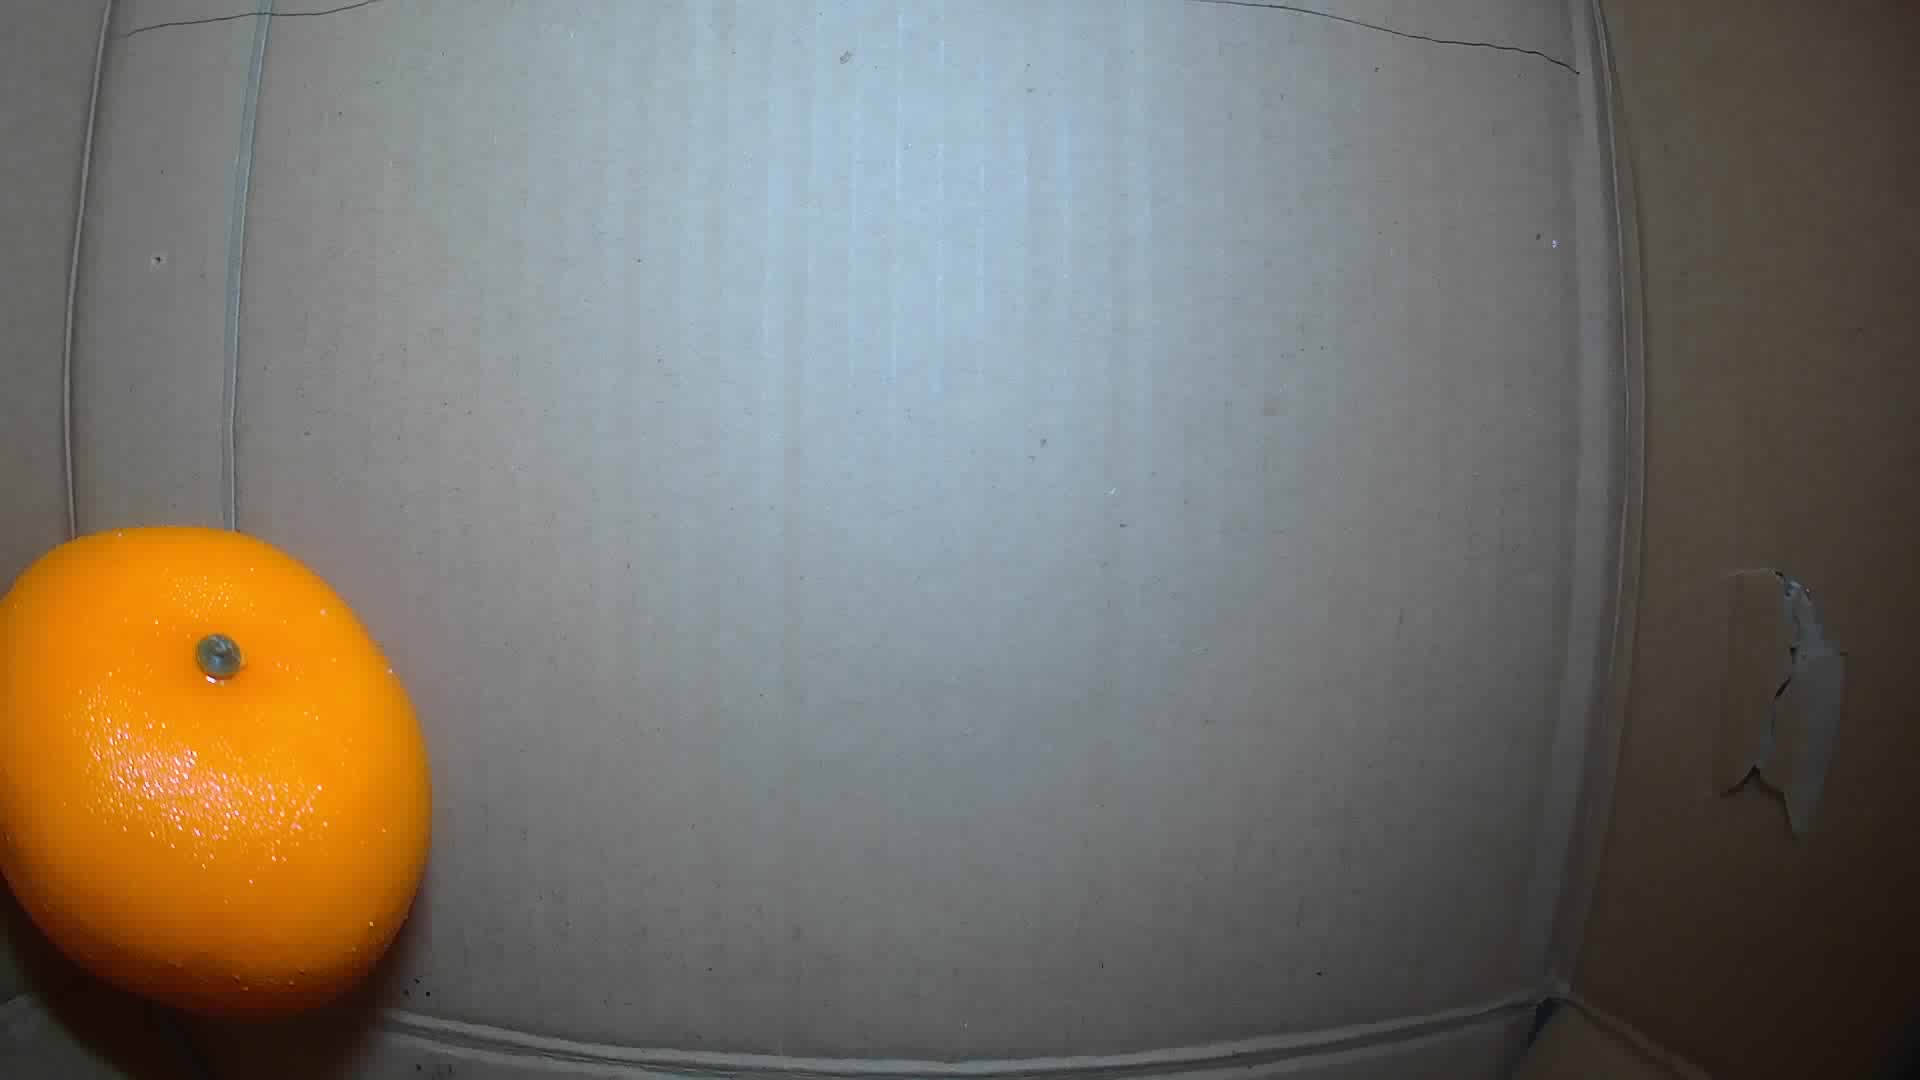orange: (1, 524, 439, 1018)
